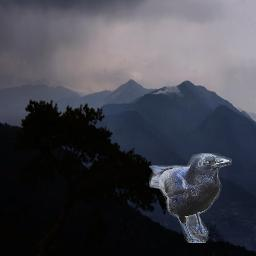Crow: (149, 153, 232, 243)
